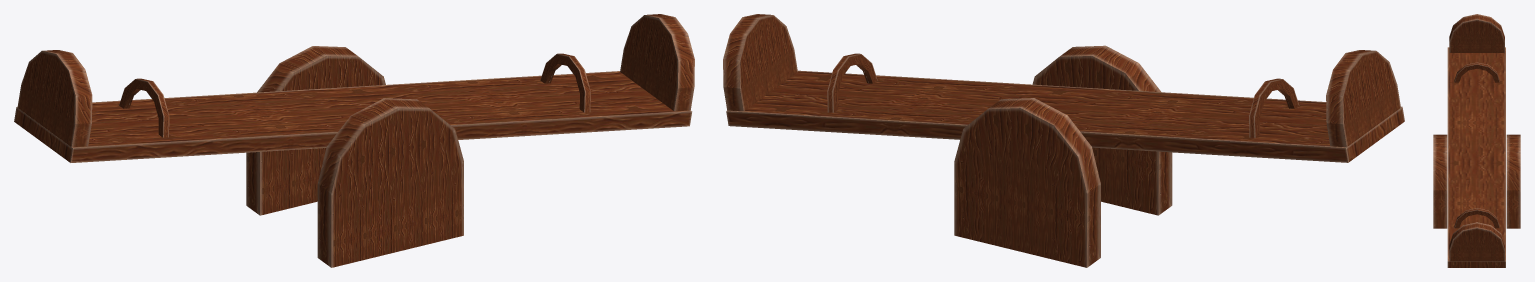
The model's file is seesaw_01.FBX.
The picture shows the model from 3 angles, left to right: view 1: azimuth 30°, elevation 25°; view 2: azimuth 150°, elevation 25°; view 3: azimuth 270°, elevation 25°; orthographic projection. The views are drawn at different scales.
Parts seen in each view (by area): view 1: see saw004; view 2: see saw004; view 3: see saw004.
Part boxes in pixels (x1,y1,x2,y2): see saw004: [14, 14, 694, 267]; see saw004: [723, 14, 1404, 267]; see saw004: [1433, 14, 1520, 267].
Size of the model in its own units: 385 by 139 by 89.59.
